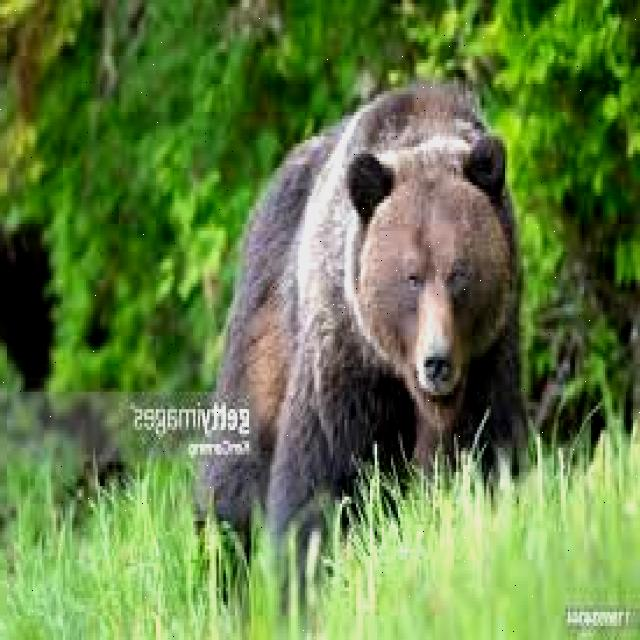bear: (256, 87, 498, 538)
